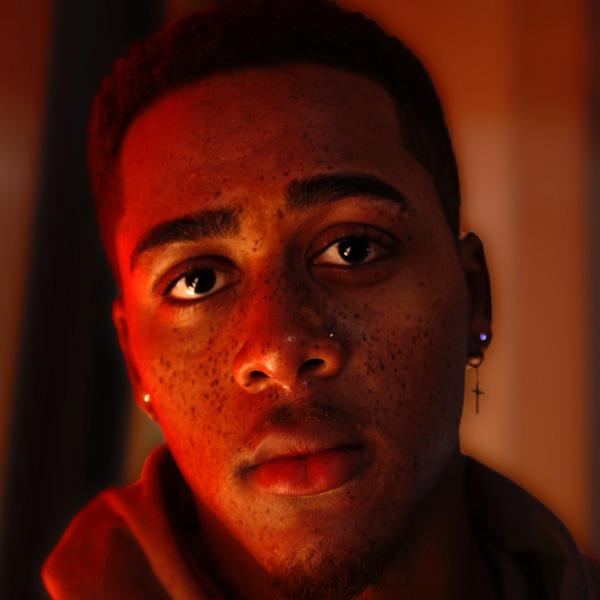Eyes: (298, 214, 409, 288), (152, 240, 251, 318)
